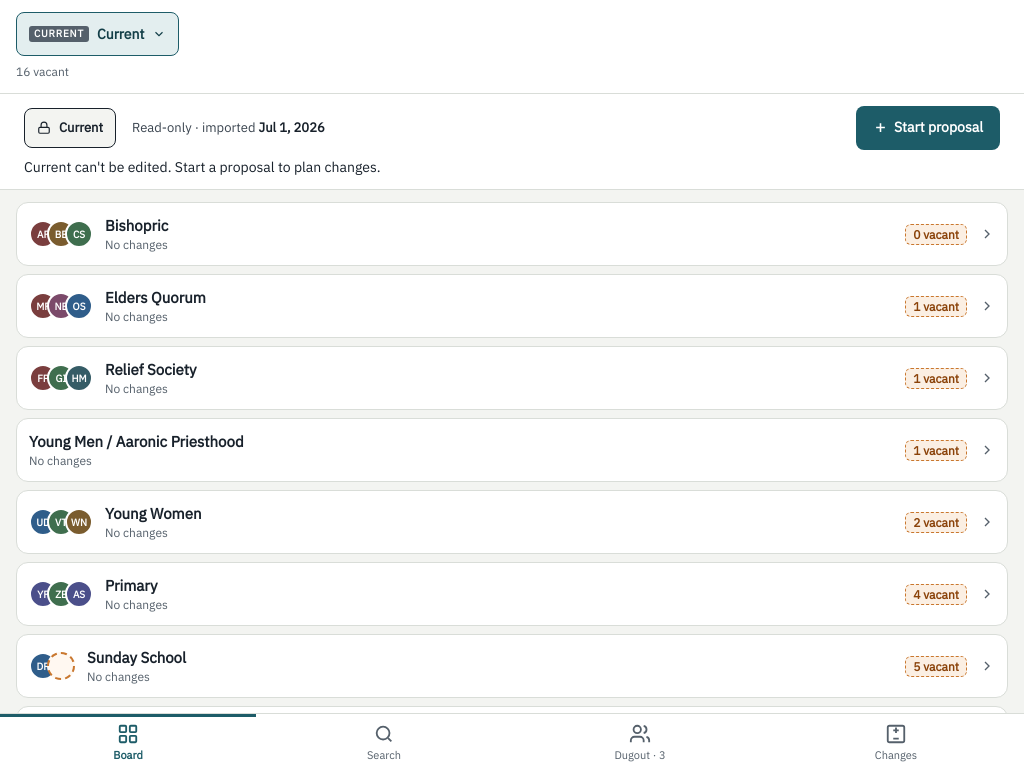
phone board editing › Current shows the person sheet read-only
The image size is (1024, 768).
Click the button "YF ZE AS Primary No changes 4 vacant" at (131, 586), box [16,562,1008,626]
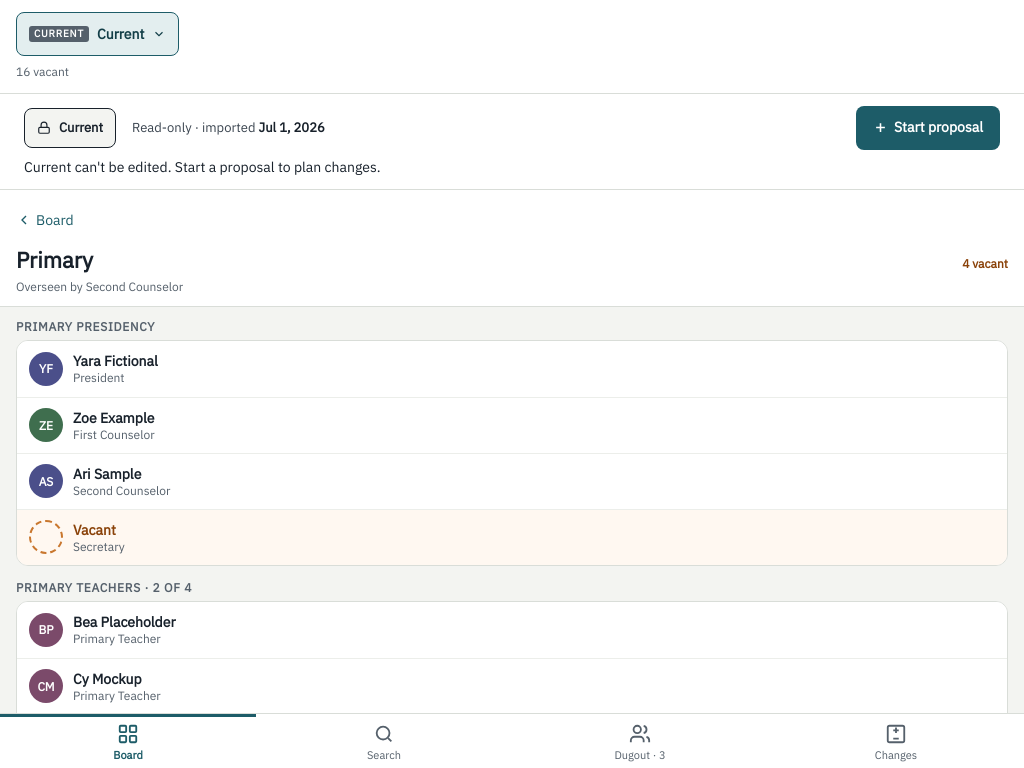
Click the button with aria-label "Bea Placeholder, Primary Teacher" at (46, 630), box [17,602,1007,658]
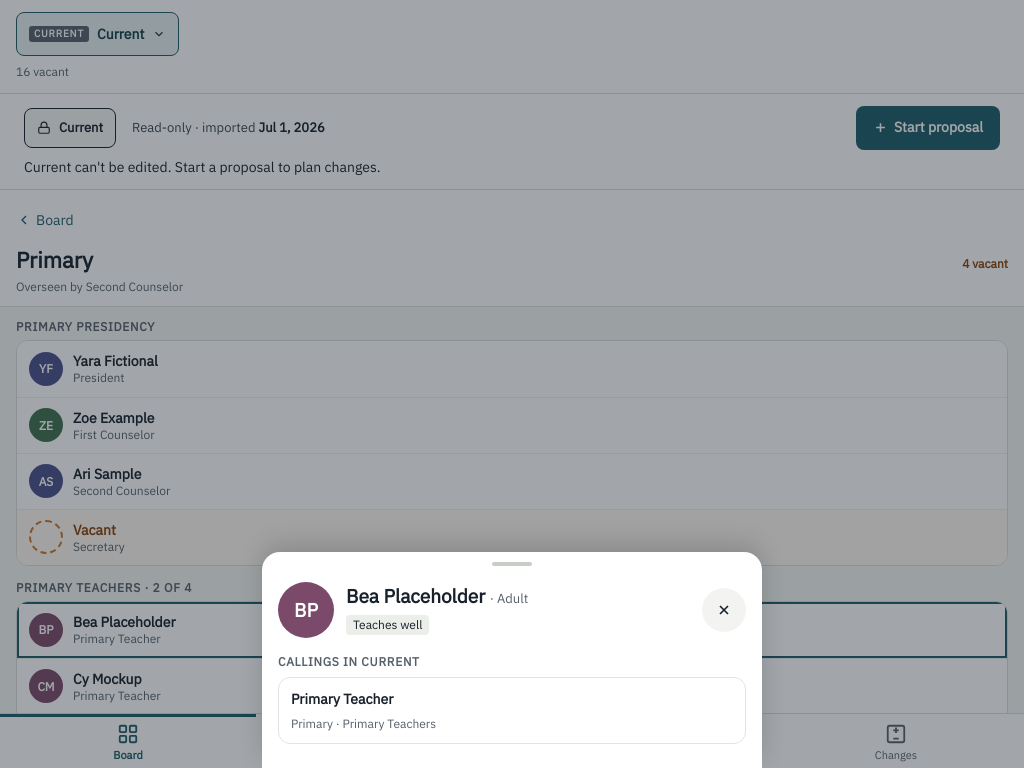
Expected: the dialog "Bea Placeholder" shows "Callings in Current", [262,552,762,767]
Expected: the dialog "Bea Placeholder" shows "Primary Teacher", [291,690,393,708]
